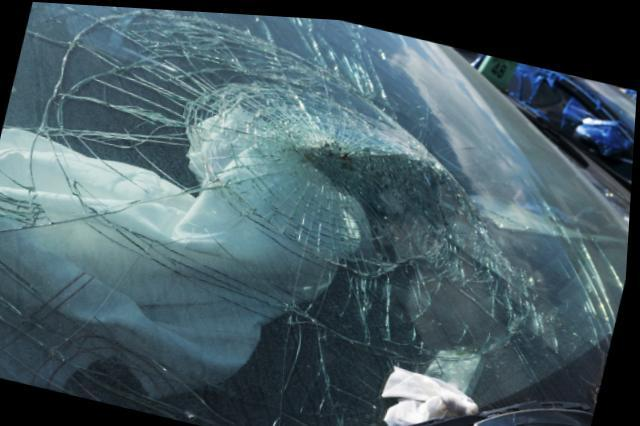glass shatter: (0, 2, 631, 426)
